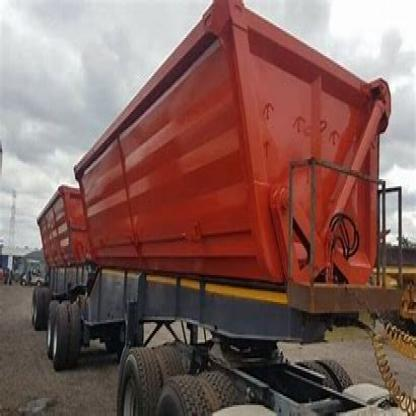dump_truck: (14, 16, 414, 414)
